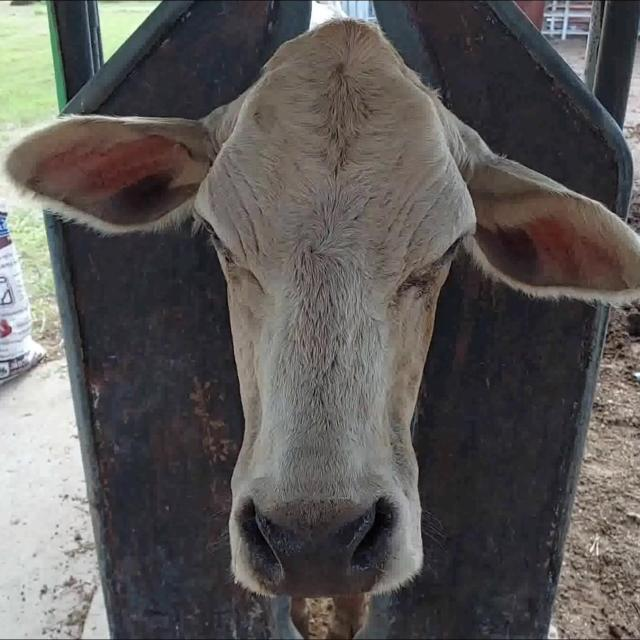cowFace: (191, 29, 474, 603)
